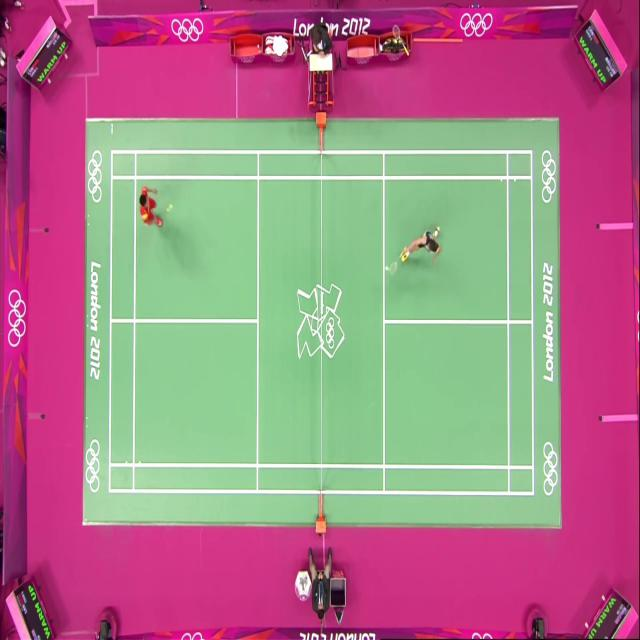Net: (312, 115, 332, 542)
Player1: (396, 202, 446, 290)
Player2: (133, 168, 179, 266)
